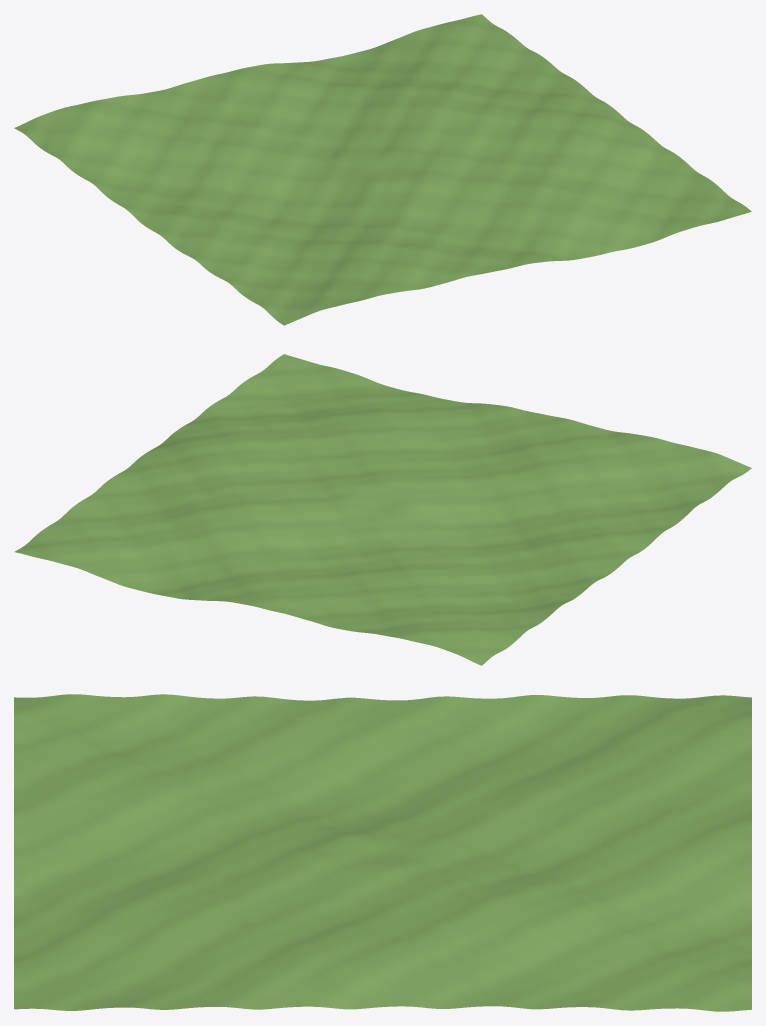
Rendered from terrain.glb.
The picture shows the model from 3 angles, top to bottom: view 1: azimuth 30°, elevation 25°; view 2: azimuth 150°, elevation 25°; view 3: azimuth 270°, elevation 25°; orthographic projection. The views are drawn at different scales.
Visible parts, largest first — view 1: Terrain; view 2: Terrain; view 3: Terrain.
Part boxes in pixels (bbox=[...]): Terrain: bbox=[14, 14, 751, 325]; Terrain: bbox=[14, 354, 751, 665]; Terrain: bbox=[14, 694, 751, 1011].
Bounding box in the file's own units: 200 × 8.26 × 200.
